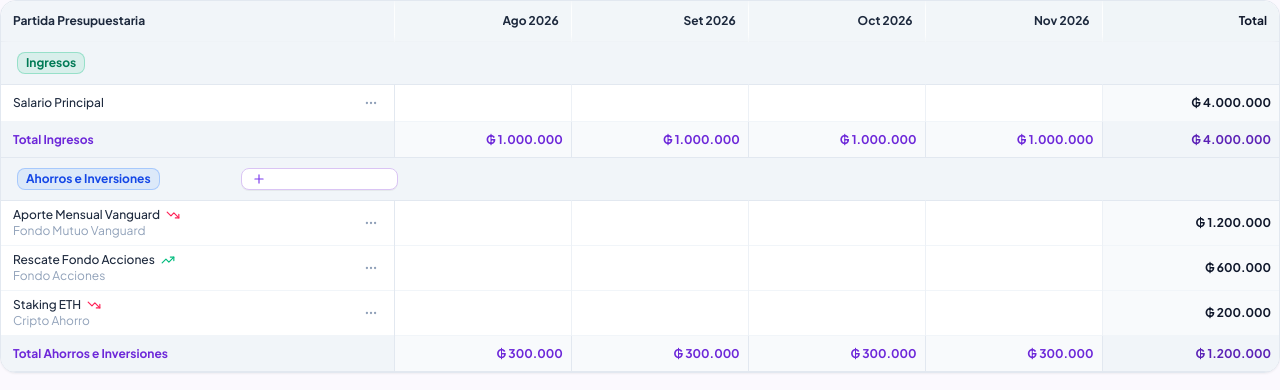
BudgetMatrixGrid Options Menu & Nature Editing › Table Matrix View Mode (Cuatrimestral / Semestral / Anual) › renders options menu in the sticky column with edit nature, replicate and delete options
expect the column heading "Partida Presupuestaria" is shown: met, box left=1, top=1, right=394, bottom=42
expect the text "Aporte Mensual Vanguard" is shown: met, box left=13, top=207, right=160, bottom=223
// Click balance row options
Click the button titled "Opciones de partida" in the row of "Aporte Mensual Vanguard" at (371, 223), box left=360, top=212, right=382, bottom=234
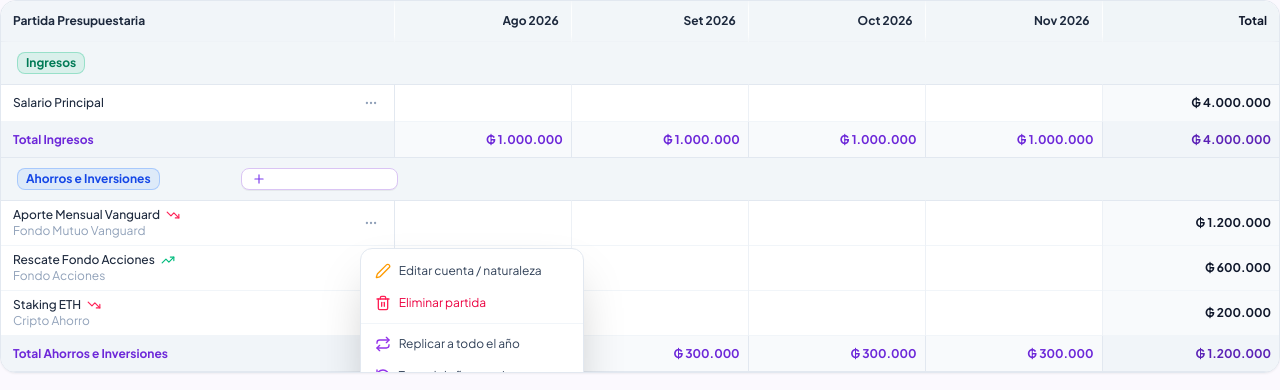
expect the text "Editar cuenta / naturaleza" is shown: met, box left=399, top=263, right=542, bottom=279
expect the text "Eliminar partida" is shown: met, box left=399, top=295, right=486, bottom=311
expect the text "Replicar a todo el año" is shown: met, box left=399, top=336, right=520, bottom=352
